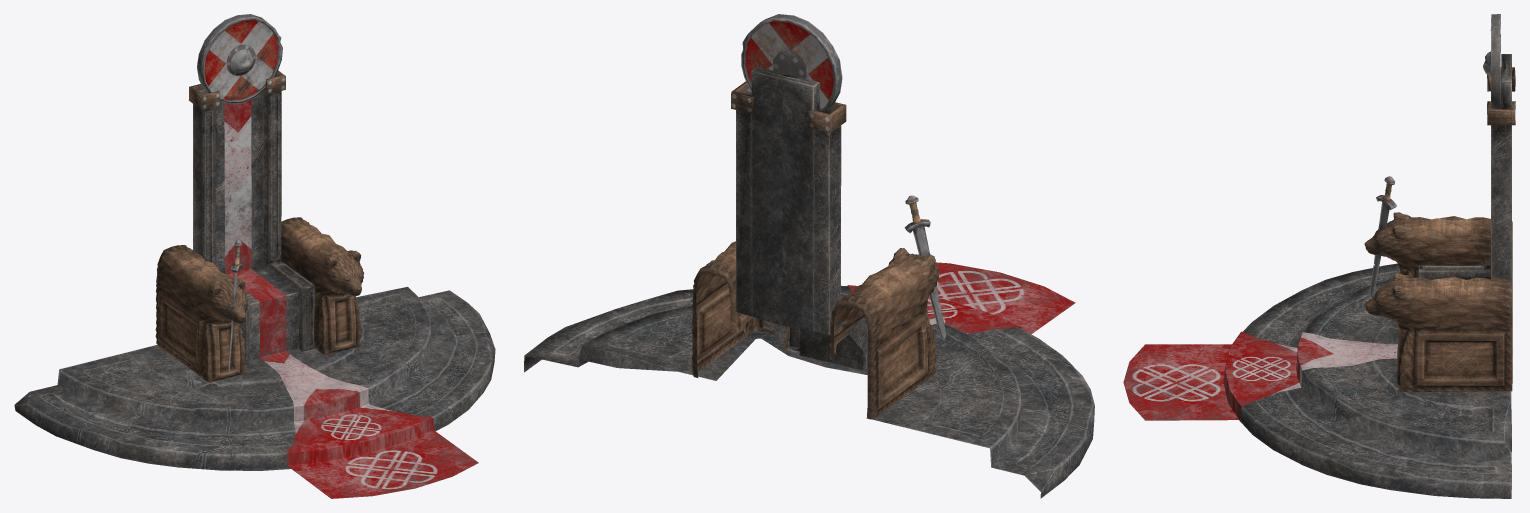
3 renders of one model, left to right at view 1: azimuth 30°, elevation 25°; view 2: azimuth 150°, elevation 25°; view 3: azimuth 270°, elevation 25°, orthographic. The views are drawn at different scales.
Parts seen in each view (by area): view 1: TheStairs_low, TheThrone_low; view 2: TheThrone_low, TheStairs_low; view 3: TheStairs_low, TheThrone_low.
Boxes of the visible parts, x1=… form: TheStairs_low: x1=14, y1=100, x2=495, y2=498; TheThrone_low: x1=155, y1=14, x2=363, y2=382; TheThrone_low: x1=691, y1=14, x2=946, y2=419; TheStairs_low: x1=524, y1=262, x2=1094, y2=498; TheStairs_low: x1=1123, y1=263, x2=1511, y2=498; TheThrone_low: x1=1364, y1=14, x2=1515, y2=391.
Size of the model in its own units: 4.15 by 3.17 by 3.05.
2 materials, 2 textured.
